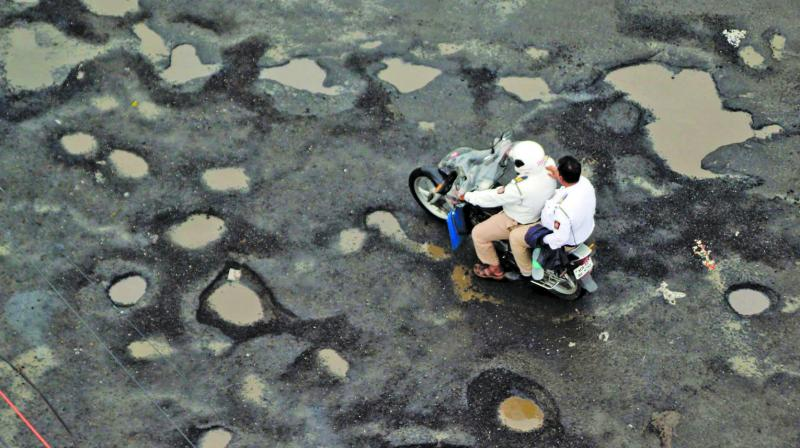pothole: (580, 35, 762, 190), (133, 14, 228, 100), (0, 18, 115, 82), (202, 253, 270, 337), (465, 369, 560, 429), (96, 132, 173, 195), (262, 53, 343, 111), (707, 277, 781, 326), (160, 198, 231, 248), (93, 272, 170, 316), (373, 47, 433, 97), (51, 118, 102, 168), (207, 416, 259, 447)
